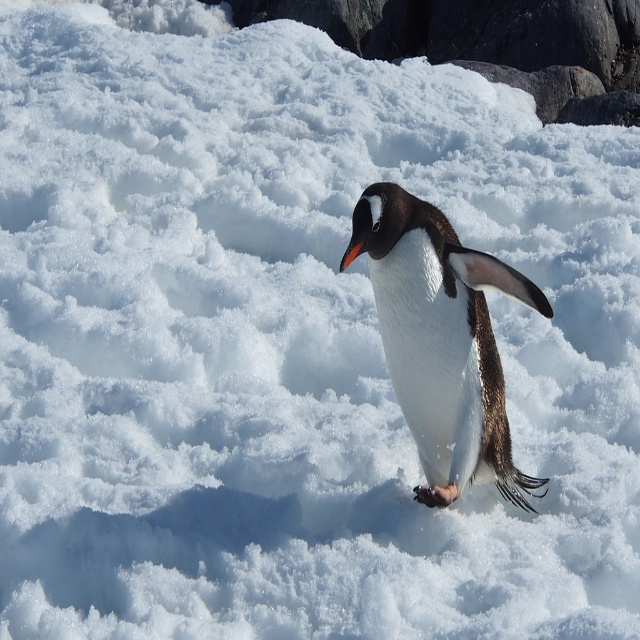Penguin: (331, 177, 549, 528)
